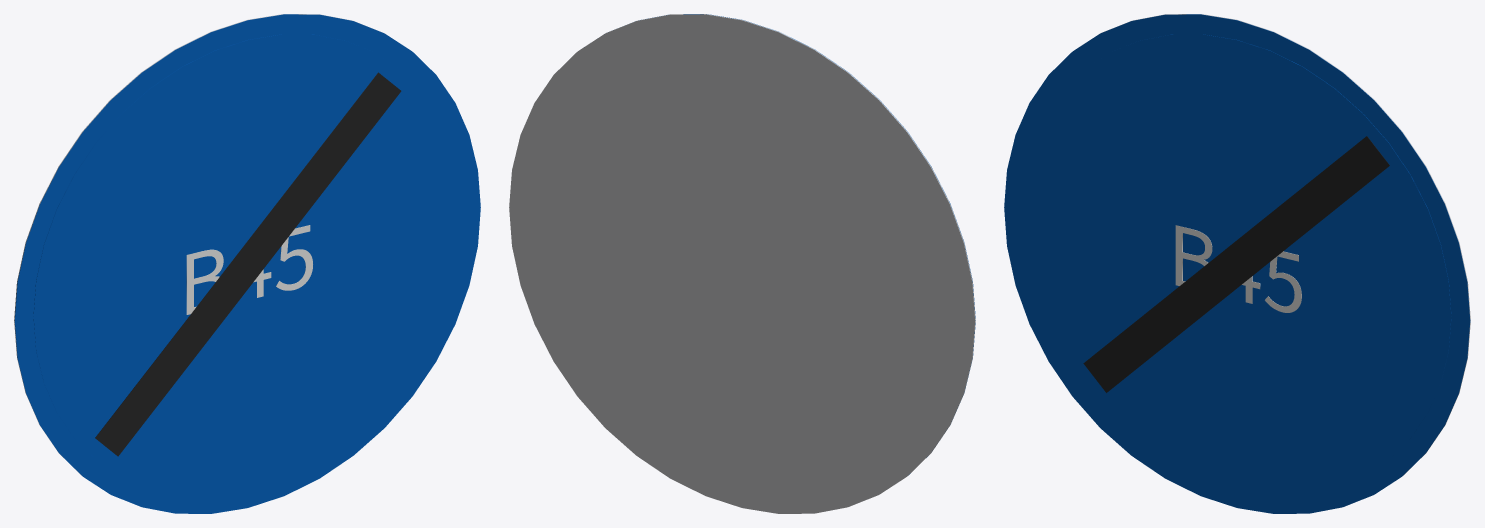
The picture shows the model from 3 angles, left to right: view 1: azimuth 30°, elevation 25°; view 2: azimuth 150°, elevation 25°; view 3: azimuth 330°, elevation 25°; orthographic projection.
Visible parts, largest first — view 1: B45_int01, B45_ext00, B45_barre03, B45_txt02, B45_dos; view 2: B45_dos; view 3: B45_int01, B45_ext00, B45_barre03, B45_txt02, B45_dos.
Boxes of the visible parts, <box> form: B45_int01: <box>33,34,462,493</box>; B45_ext00: <box>14,14,480,513</box>; B45_barre03: <box>95,72,401,456</box>; B45_txt02: <box>186,225,312,314</box>; B45_dos: <box>14,14,383,475</box>; B45_dos: <box>509,14,975,513</box>; B45_int01: <box>1022,34,1451,493</box>; B45_ext00: <box>1004,14,1470,513</box>; B45_barre03: <box>1083,136,1389,392</box>; B45_txt02: <box>1175,225,1301,312</box>; B45_dos: <box>1101,14,1470,475</box>.
Size of the model in its own units: 0.65 by 0.65 by 0.0029.
